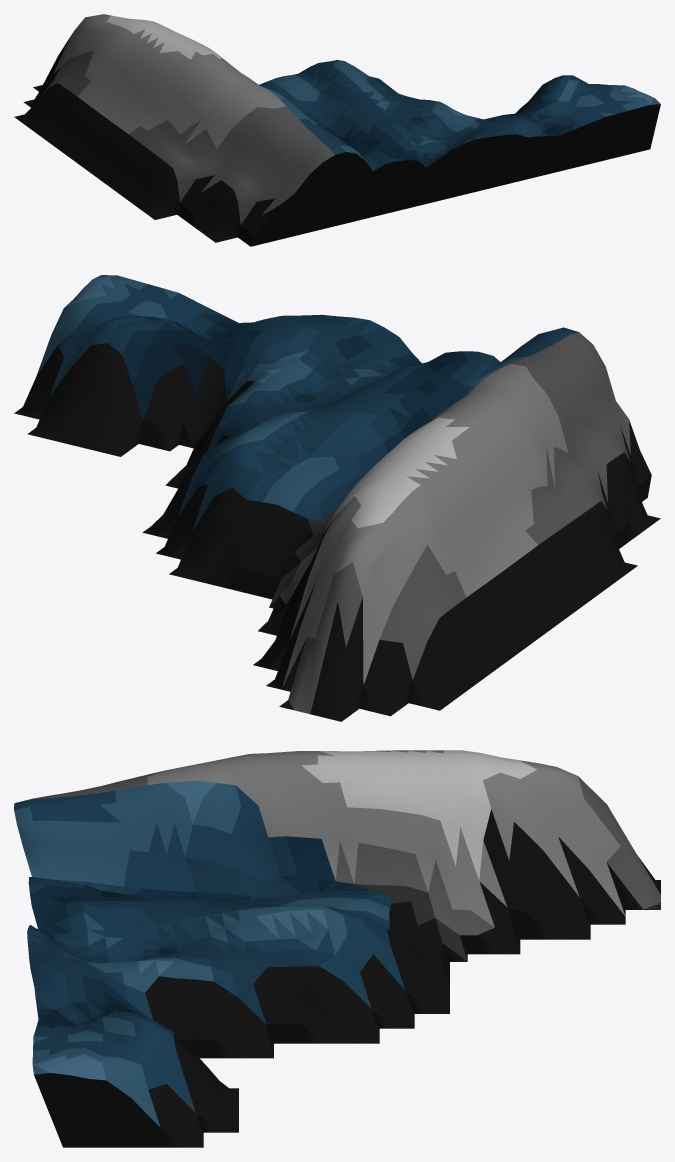
File: gryphon_1.glb
The picture shows the model from 3 angles, top to bottom: view 1: azimuth 30°, elevation 25°; view 2: azimuth 150°, elevation 25°; view 3: azimuth 270°, elevation 25°; orthographic projection. The views are drawn at different scales.
Visible parts, largest first — view 1: gryphon_1; view 2: gryphon_1; view 3: gryphon_1.
Part boxes in pixels (x1,y1,x2,y2): gryphon_1: (14, 14, 660, 246); gryphon_1: (14, 275, 660, 721); gryphon_1: (14, 750, 660, 1147).
Bounding box in the file's own units: 20 × 4.85 × 18.4.
